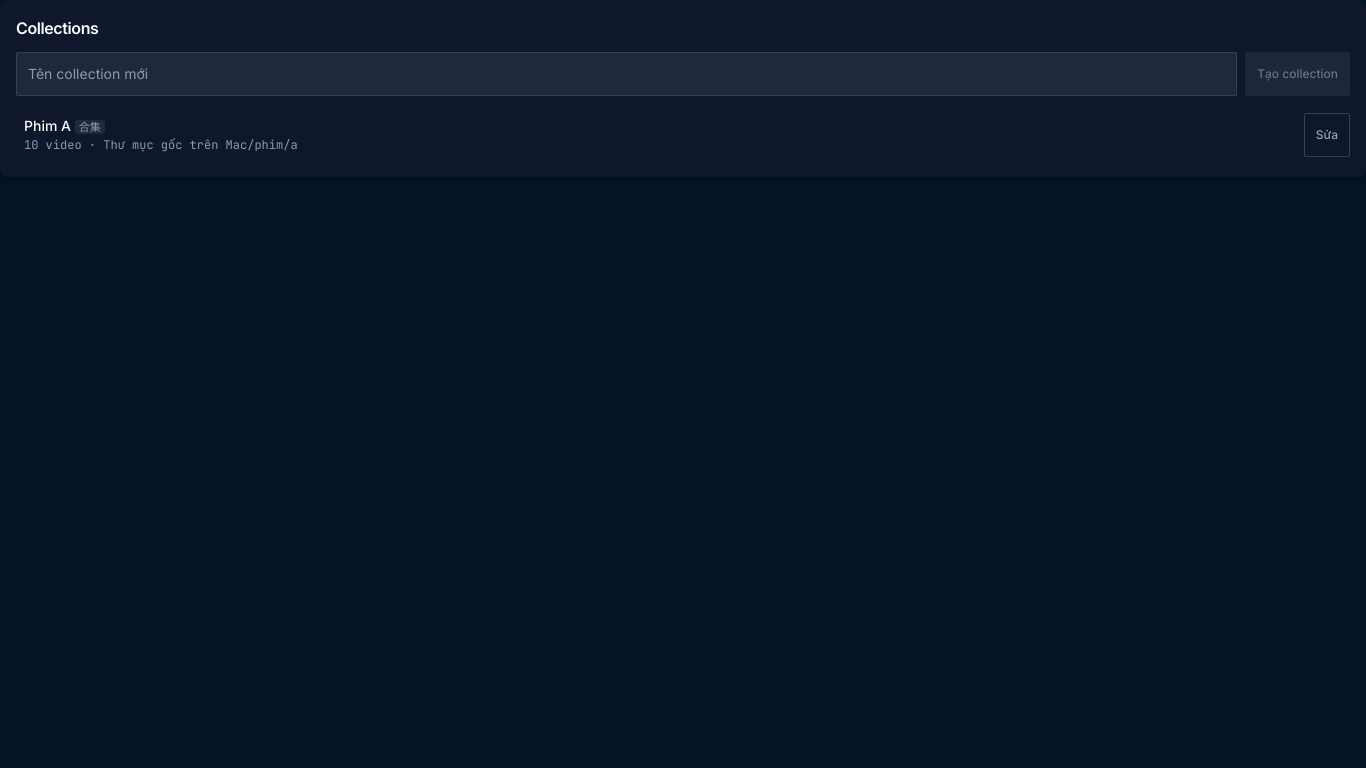
CollectionsPanel settings › a click on the backdrop closes the dialog; a click inside it does not
Step 1. Click the button with aria-label "Sửa Phim A" → (1327, 134), box [1304,112,1350,156]
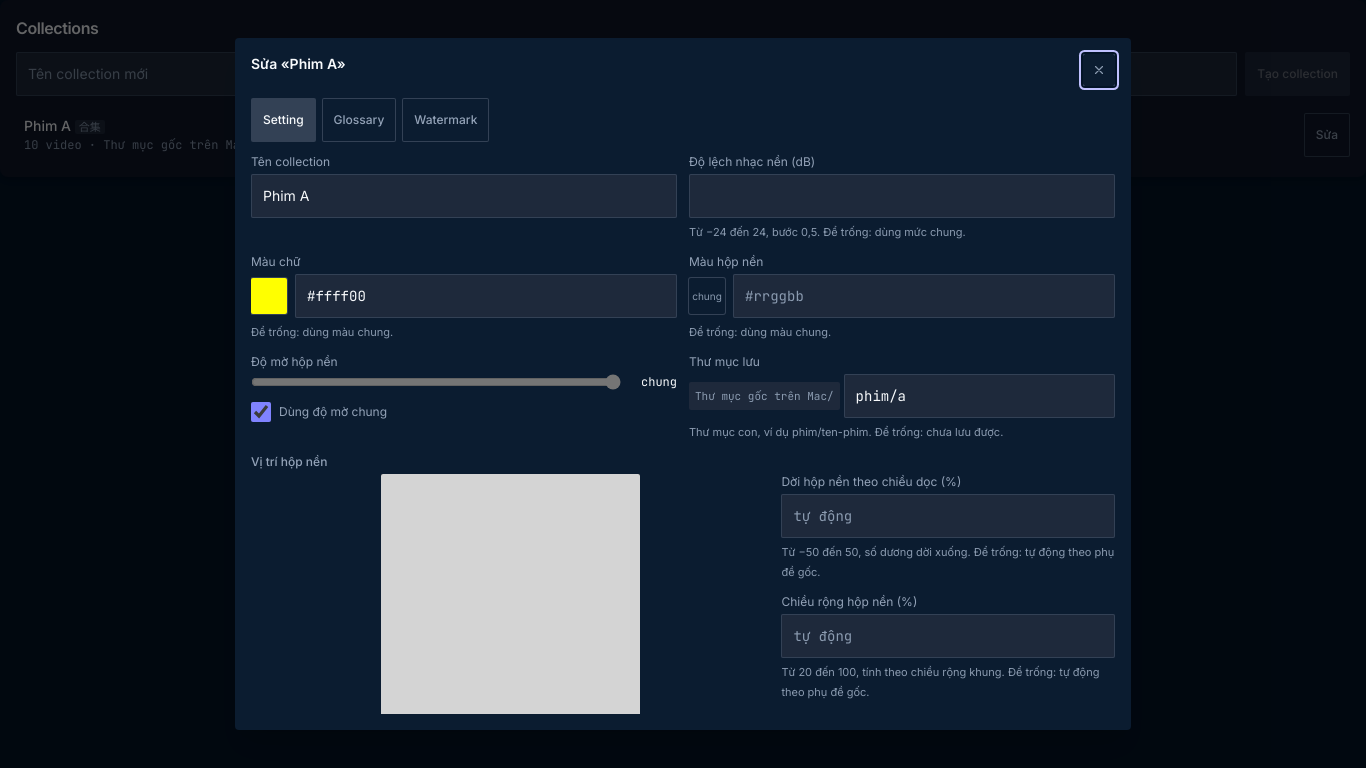
Step 2. Click the field labelled "Tên collection" → (464, 196), box [251,174,677,218]
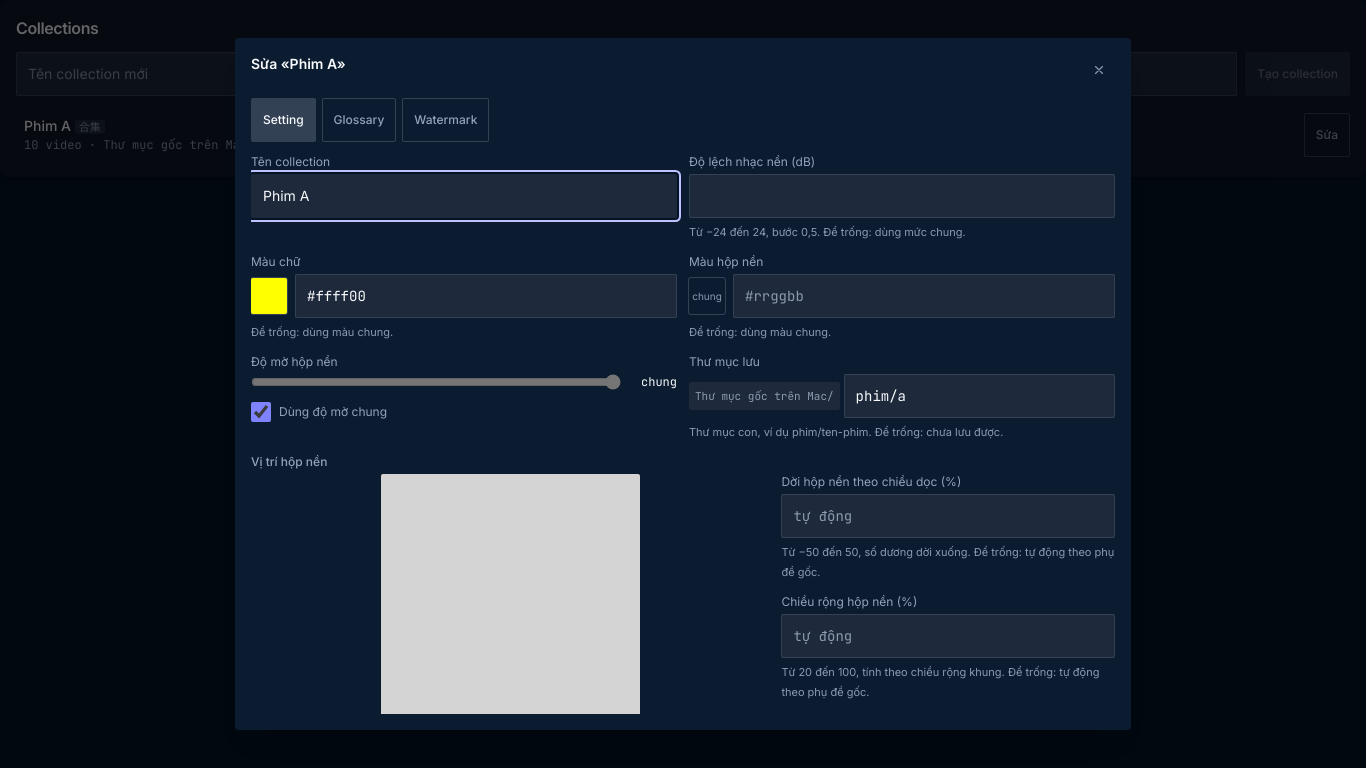
Check: the dialog is shown
Step 3. Click the dialog → (683, 384), box [235,38,1131,730]
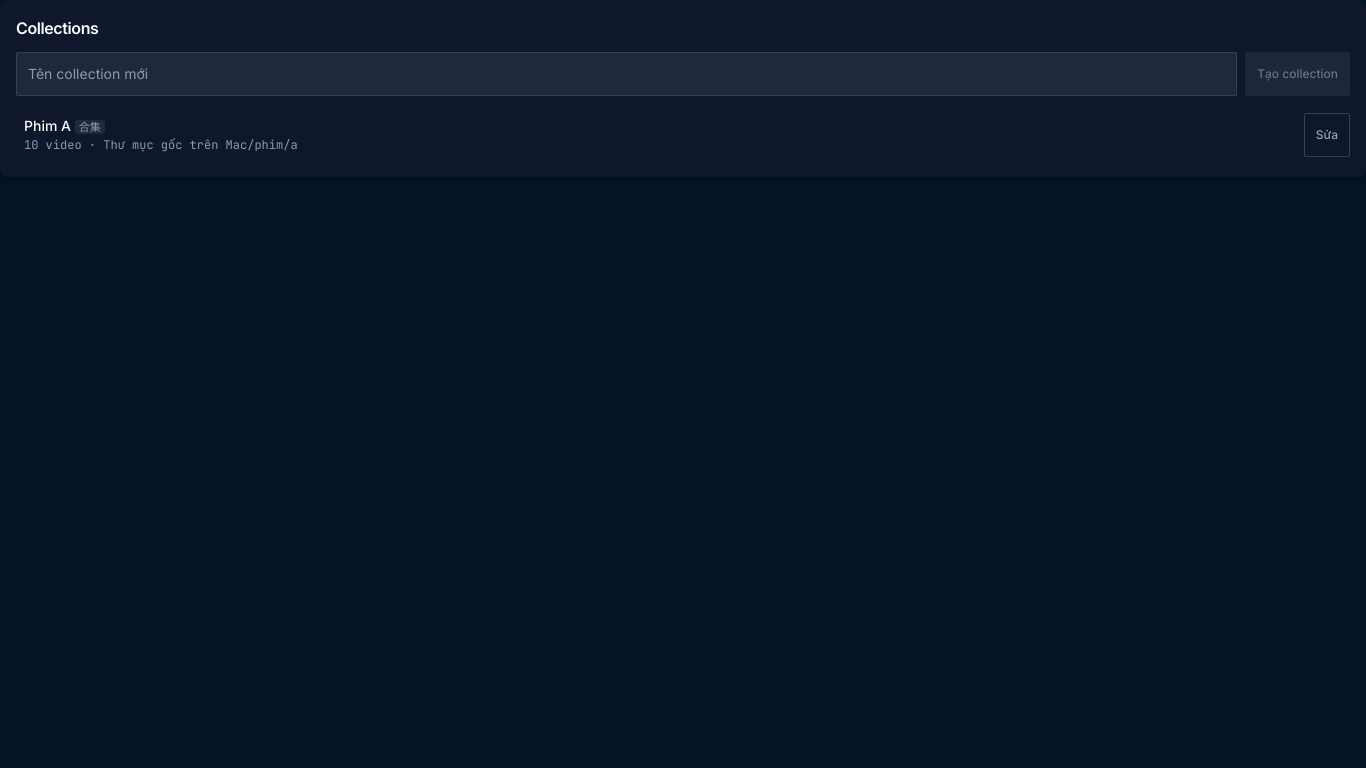
Check: the dialog is gone
